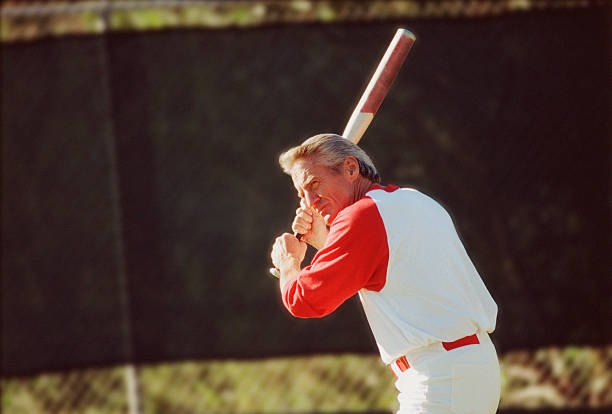bita: (338, 30, 410, 149)
